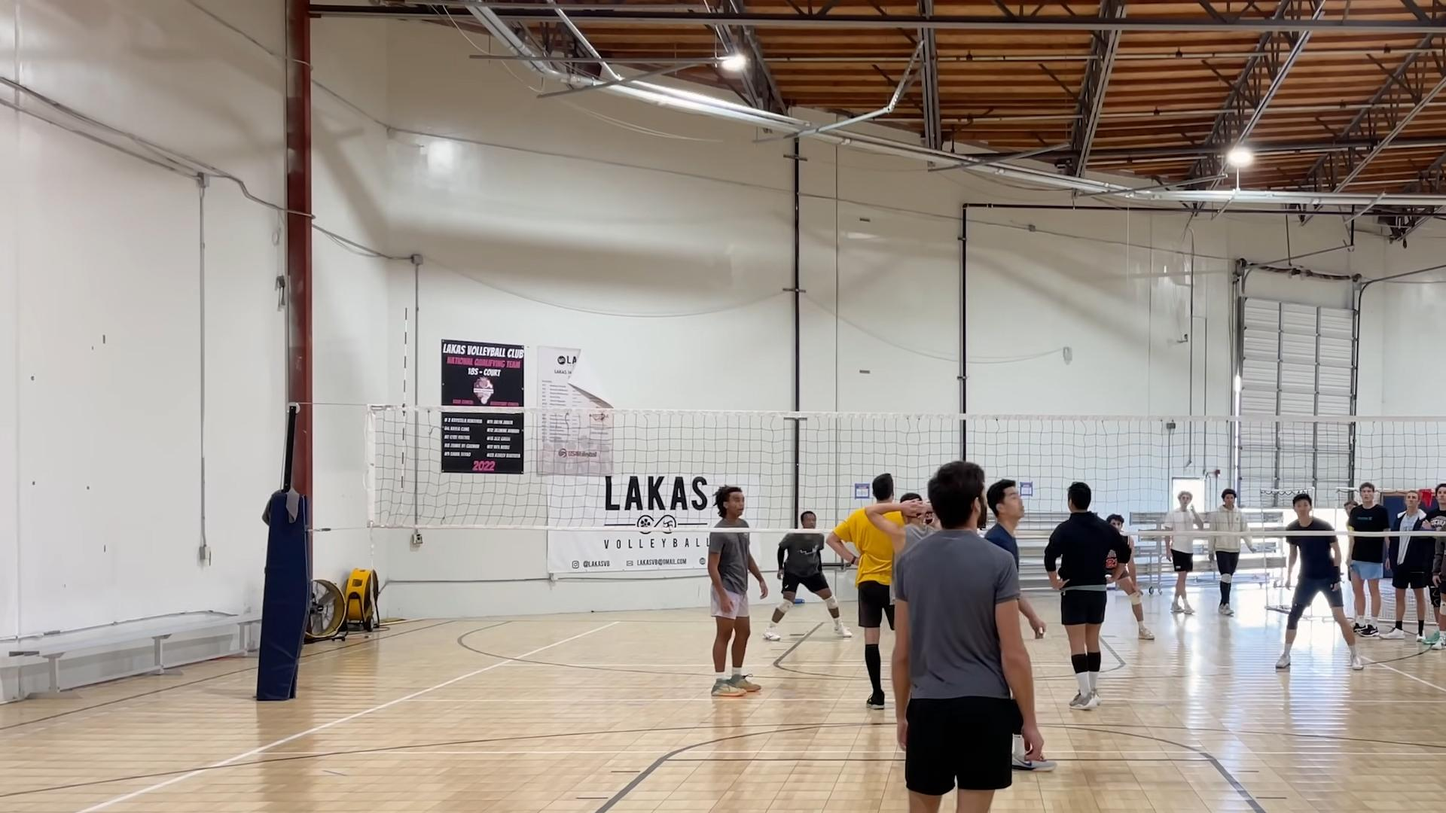Player: (892, 461, 1042, 812), (1045, 482, 1129, 709), (1276, 493, 1363, 670), (825, 508, 894, 708), (707, 486, 767, 696), (764, 532, 851, 641), (1106, 513, 1154, 639), (864, 492, 935, 558), (984, 479, 1024, 570), (984, 479, 1024, 567)
